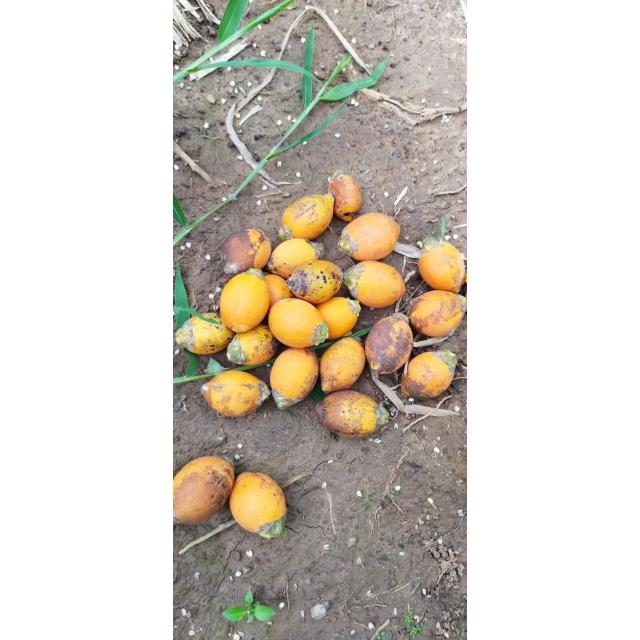good: (173, 455, 235, 525), (228, 470, 288, 536), (200, 368, 270, 418), (315, 391, 391, 437), (219, 270, 271, 332), (268, 348, 320, 408), (338, 214, 402, 262), (342, 261, 406, 309), (267, 298, 327, 349), (364, 315, 414, 375), (400, 350, 458, 400), (284, 260, 344, 304), (175, 311, 235, 355), (318, 338, 366, 392), (280, 194, 336, 240), (408, 292, 464, 338), (220, 228, 272, 276), (418, 241, 466, 293), (266, 238, 322, 280), (226, 324, 280, 366), (317, 296, 361, 340), (328, 172, 362, 220), (264, 274, 292, 306)
